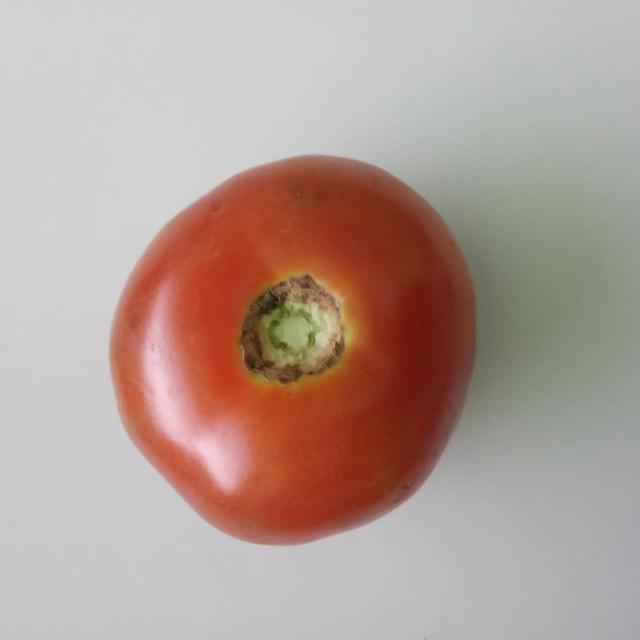Healthy Fruit: (62, 93, 328, 372)
